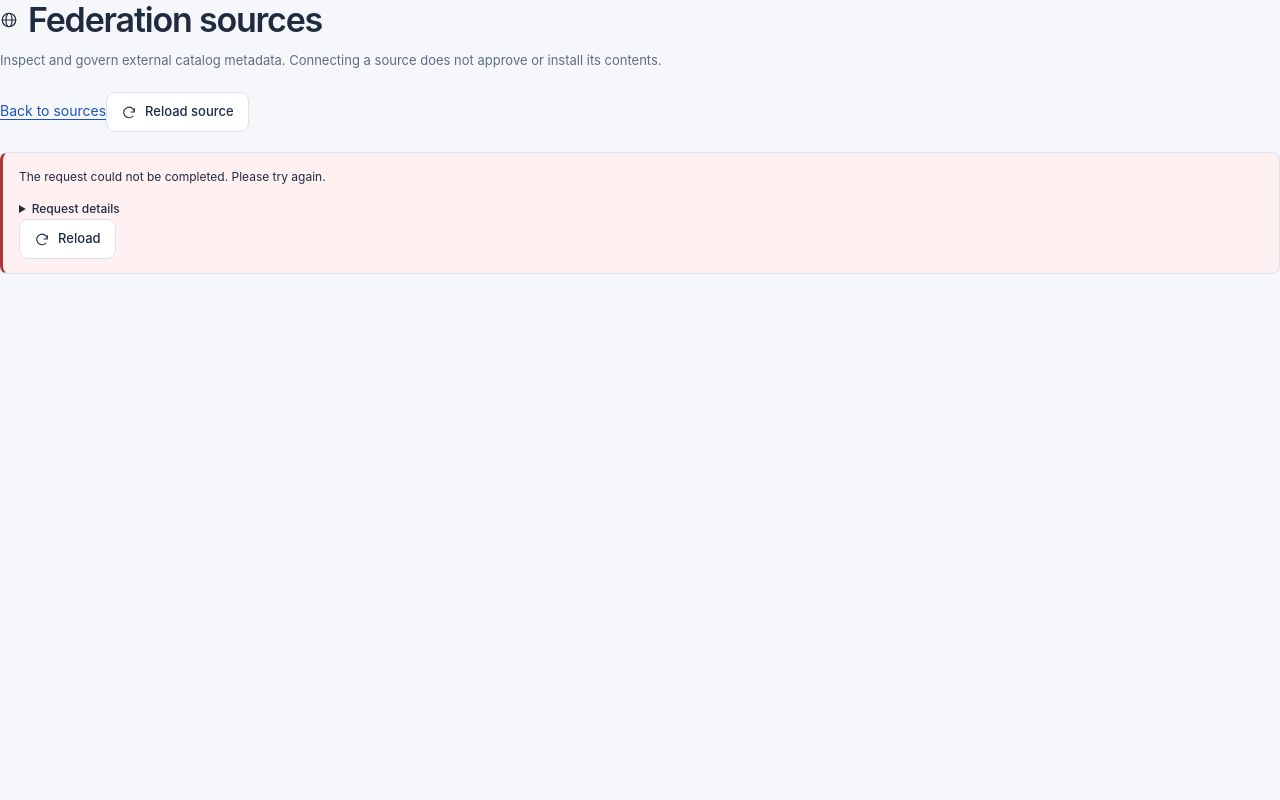
Test: refuses current Source metadata for another requested identity before enabling actions: {"id":"other-source"}
This screenshot has width=1280, height=800.
Expected: the message "The request could not be completed. Please try again. Request details Reload" is shown, [0,152,1279,274]
Expected: the button "Test source" is not shown
Click the button "Reload source".
click(177, 112)  # box [106,92,249,132]
(page scrolled)
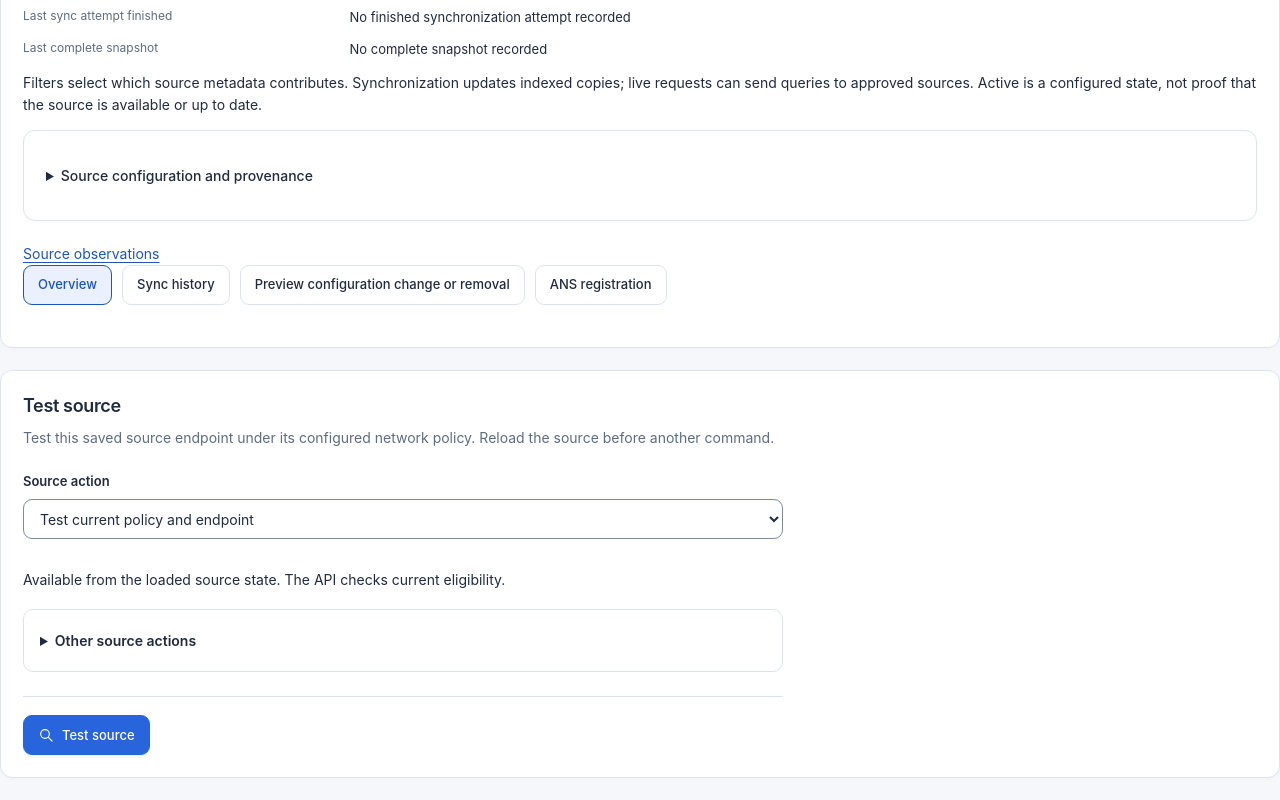
Expected: the button "Test source" is shown, [23,715,150,755]
